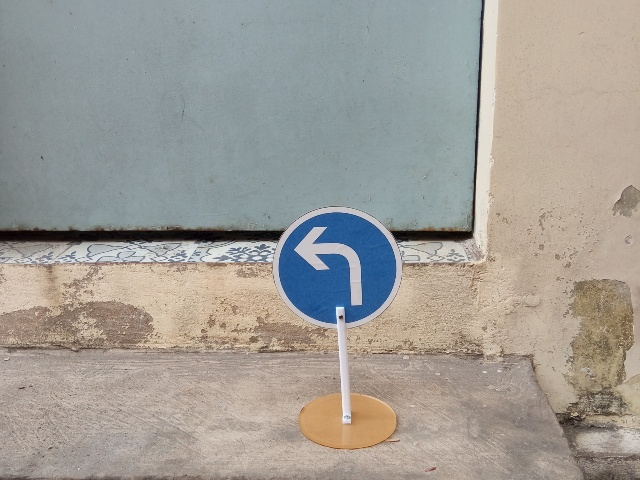Left_Sign: (272, 205, 402, 329)
